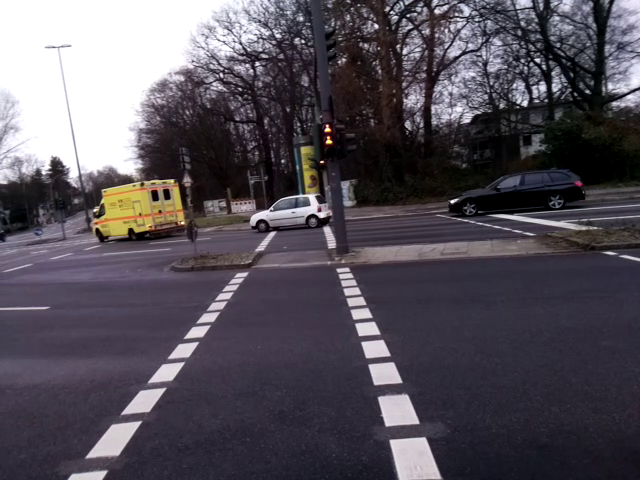car: (446, 168, 588, 215), (242, 190, 332, 233)
